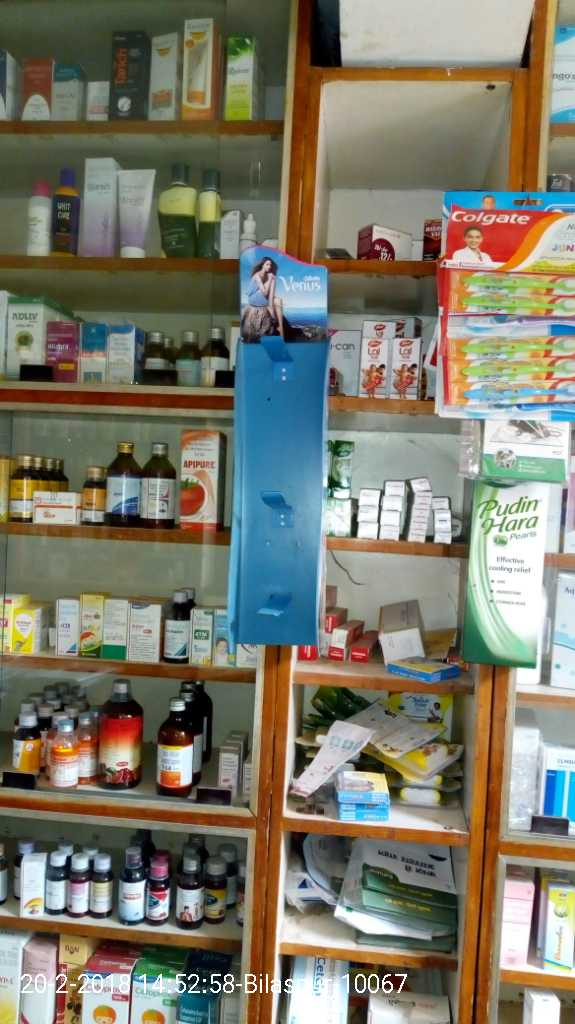reject: (209, 427, 266, 500)
